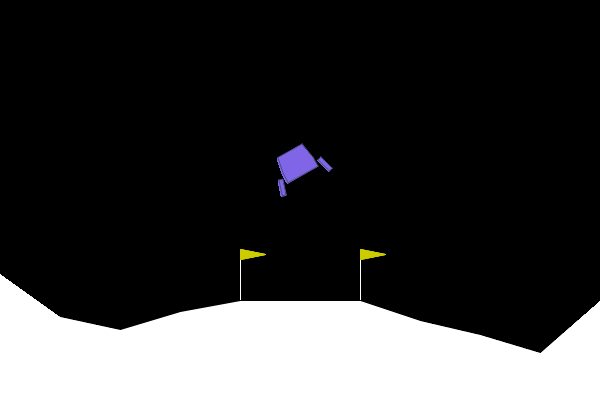lander: (262, 135, 334, 199)
